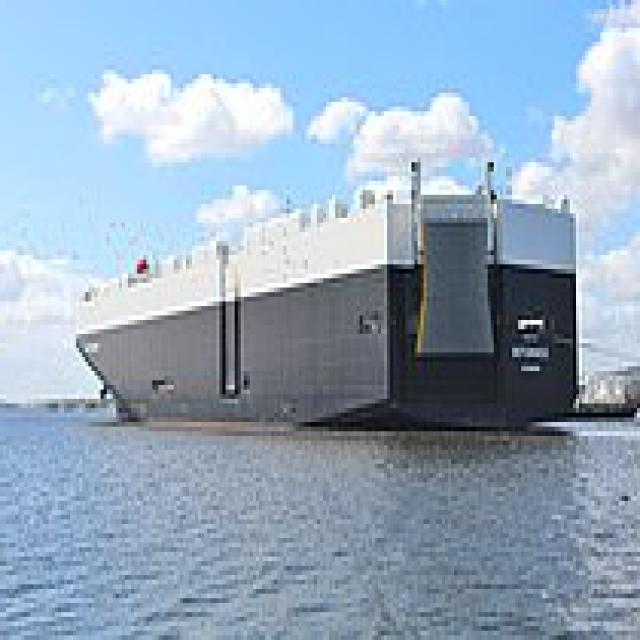Carrier: (76, 139, 585, 431)
